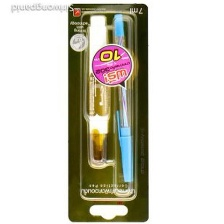book: (64, 1, 152, 223)
correction_fluid: (83, 13, 113, 167)
